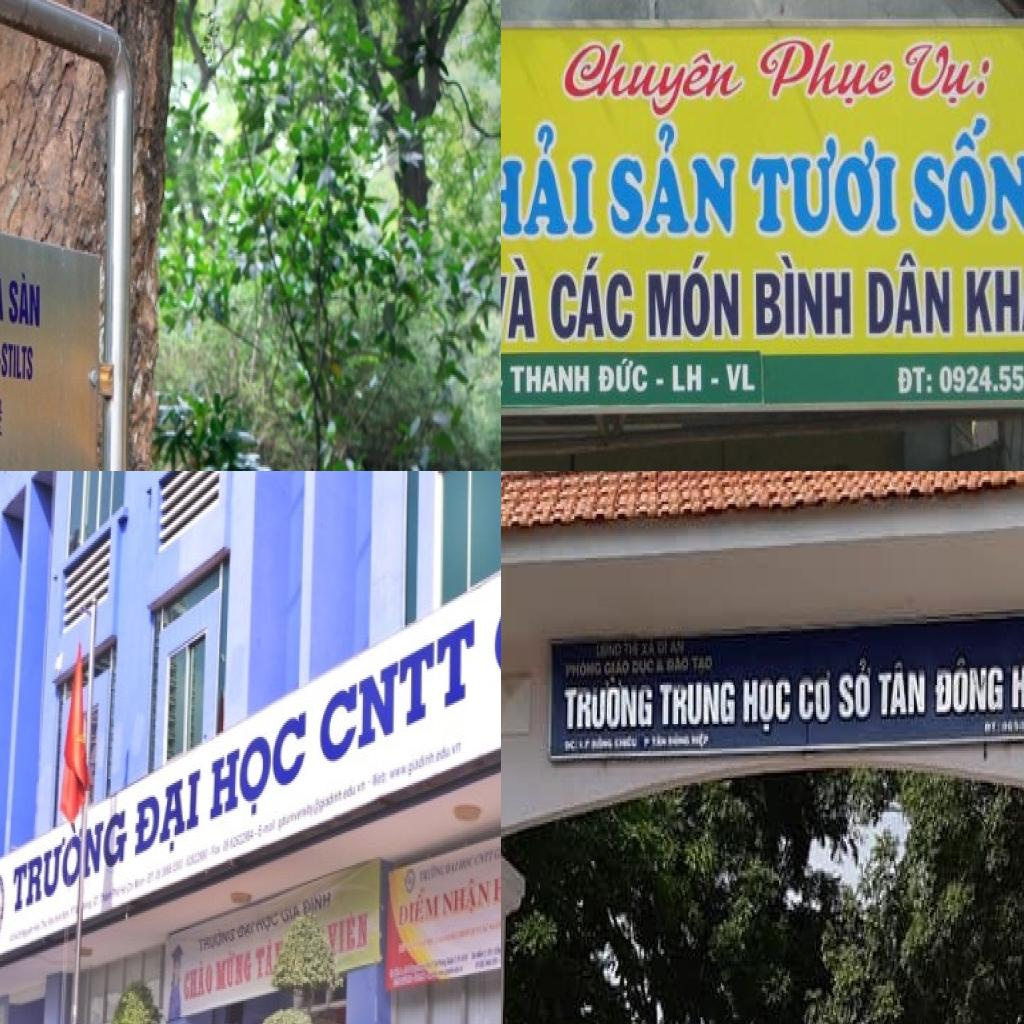text: (318, 613, 479, 775), (748, 132, 902, 239), (608, 118, 740, 240), (558, 38, 754, 120), (7, 793, 130, 923), (907, 111, 1024, 237), (206, 699, 311, 837), (501, 116, 601, 244), (753, 34, 902, 112), (752, 250, 857, 342), (643, 252, 743, 344), (546, 248, 637, 345), (866, 250, 954, 340), (898, 38, 1002, 113), (132, 763, 204, 869), (560, 676, 657, 736), (963, 244, 1024, 338), (933, 653, 1008, 724), (657, 678, 739, 729), (876, 658, 931, 724), (501, 251, 538, 343), (740, 673, 794, 736), (936, 360, 1024, 398), (596, 354, 668, 396), (508, 362, 594, 396), (323, 903, 371, 963), (838, 650, 874, 726), (440, 871, 491, 923), (6, 266, 44, 330), (798, 668, 834, 729), (398, 881, 440, 931), (215, 943, 254, 993), (0, 332, 36, 383), (669, 362, 723, 395), (894, 361, 935, 400), (183, 955, 214, 1005), (722, 359, 760, 395), (196, 923, 238, 955), (299, 887, 334, 919), (1009, 645, 1024, 719), (255, 935, 276, 985), (563, 658, 604, 683), (255, 909, 283, 939), (278, 901, 304, 927), (664, 653, 691, 678), (602, 658, 632, 680), (691, 653, 715, 680), (631, 656, 657, 680), (594, 641, 624, 661), (235, 915, 256, 941), (491, 853, 501, 907), (621, 638, 641, 660), (669, 636, 688, 658), (641, 639, 658, 658), (656, 638, 670, 660)
